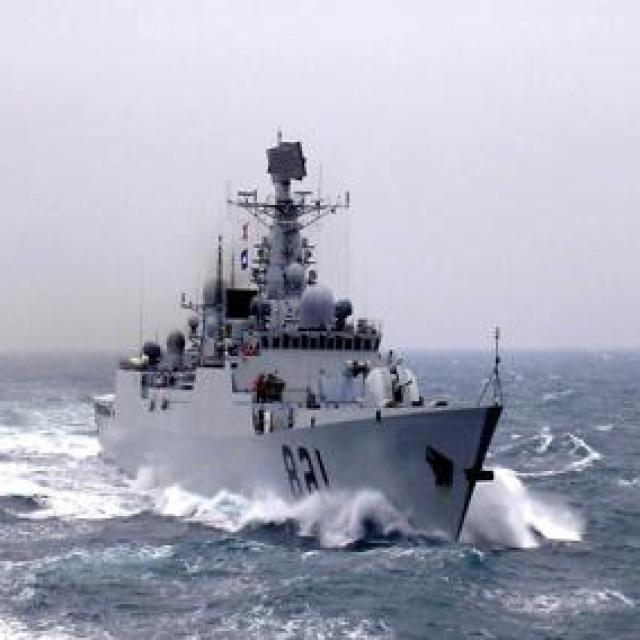navalvessels: (88, 129, 504, 539)
